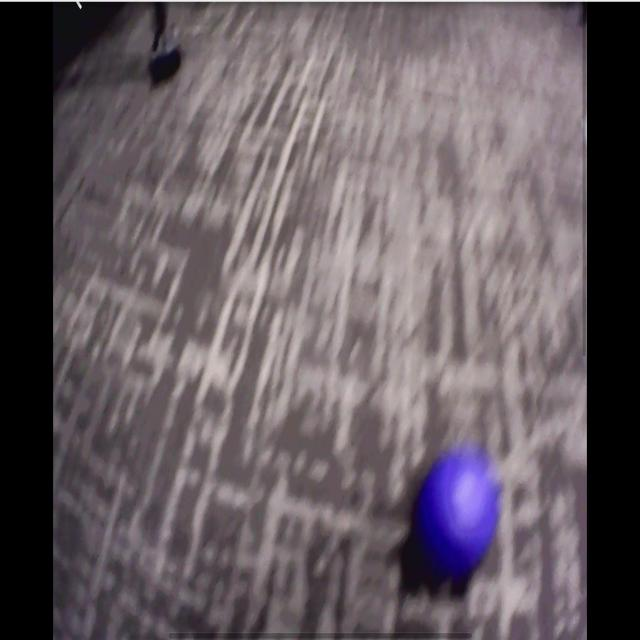ball: (422, 456, 499, 563)
